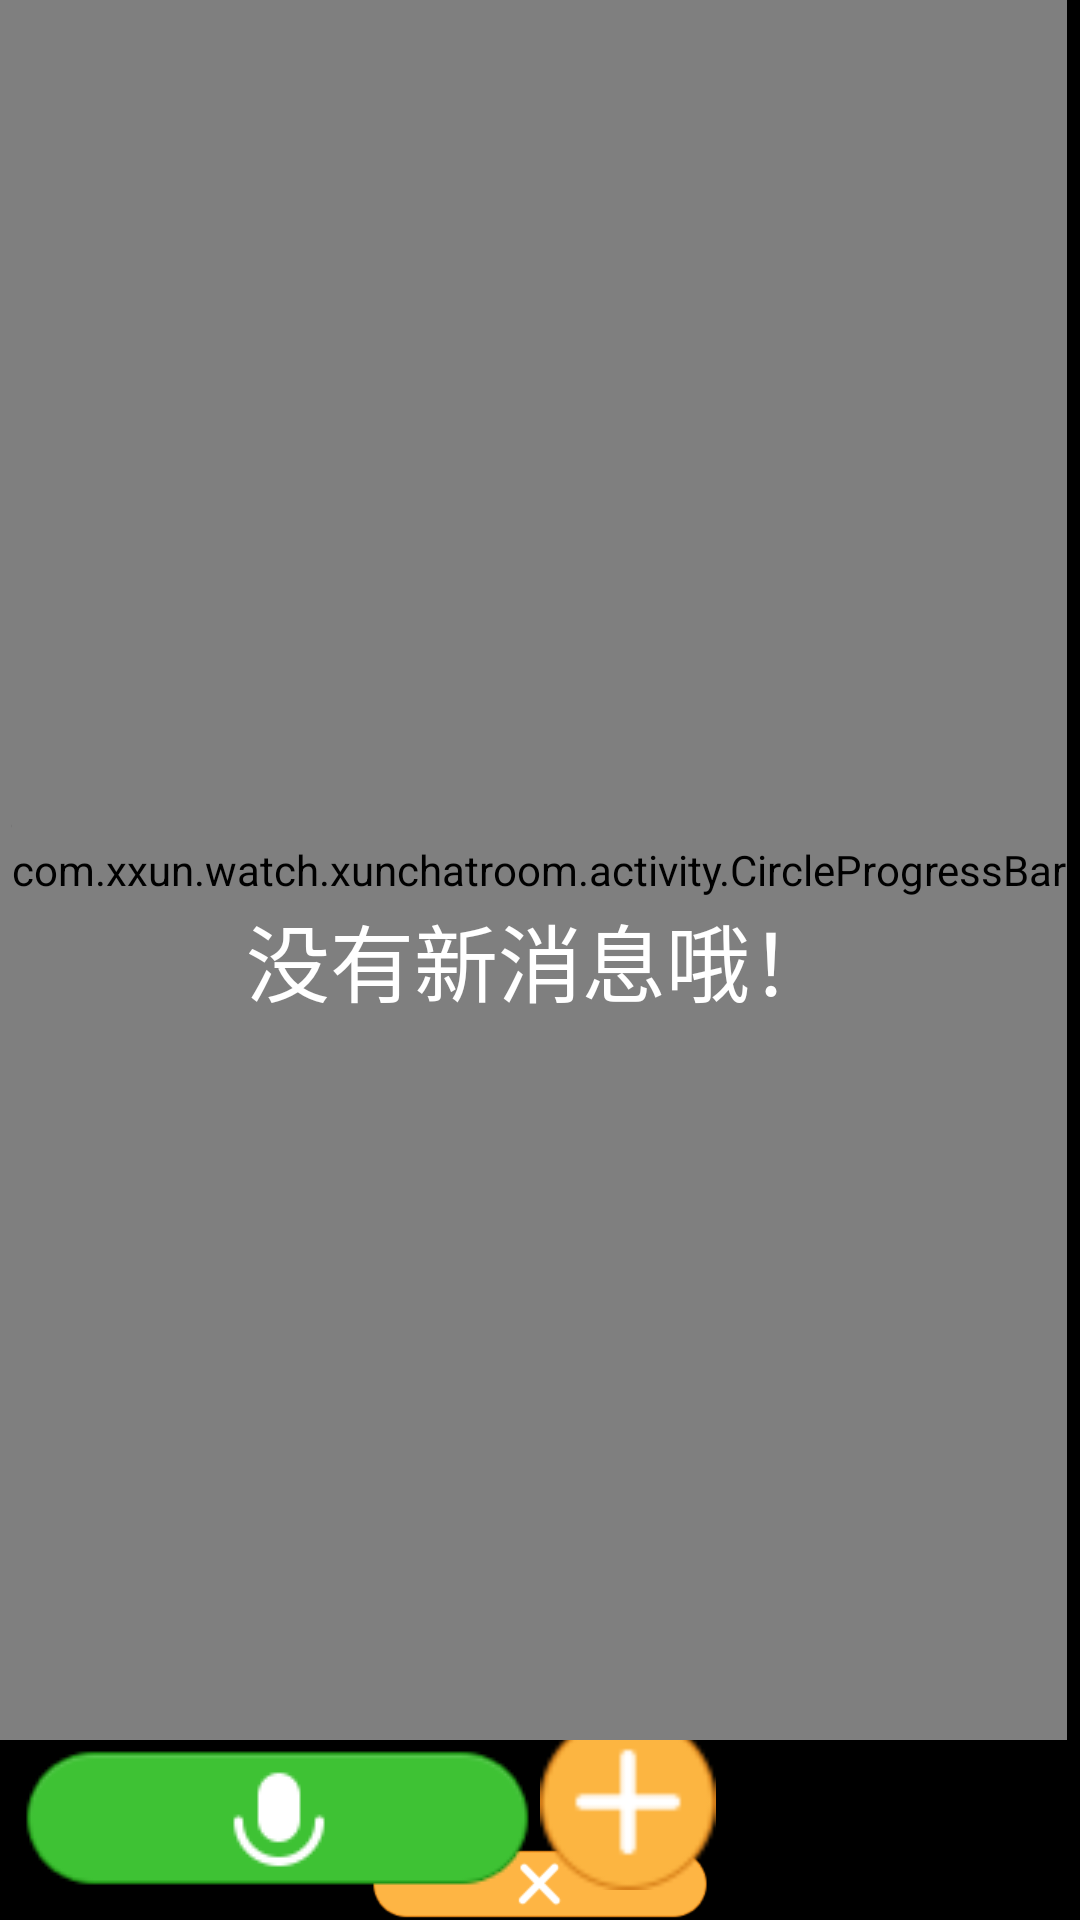

Point at icon controls on the screen. Image size 1080px x 1920px, points as (x,y).
more: (628,1802)
